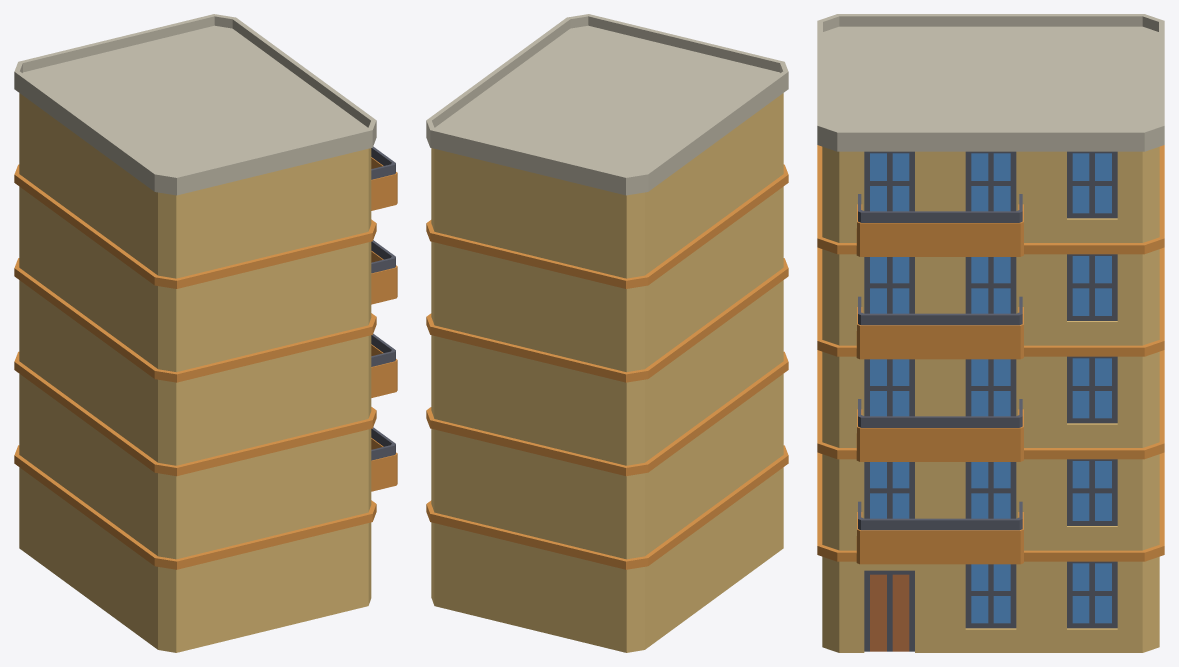
The picture shows the model from 3 angles, left to right: view 1: azimuth 30°, elevation 25°; view 2: azimuth 150°, elevation 25°; view 3: azimuth 270°, elevation 25°; orthographic projection. The views are drawn at different scales.
Visible parts, largest first — view 1: Predio 8.002; view 2: Predio 8.002; view 3: Predio 8.002.
Part boxes in pixels (<box>): Predio 8.002: <box>14,14,397,652</box>; Predio 8.002: <box>426,14,788,652</box>; Predio 8.002: <box>817,14,1164,652</box>.
Size of the model in its own units: 5694 by 10256 by 6180.
